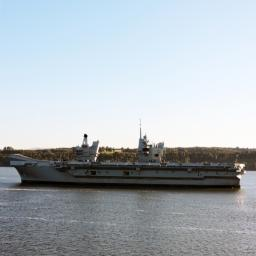Portanaves: (10, 120, 246, 192)
